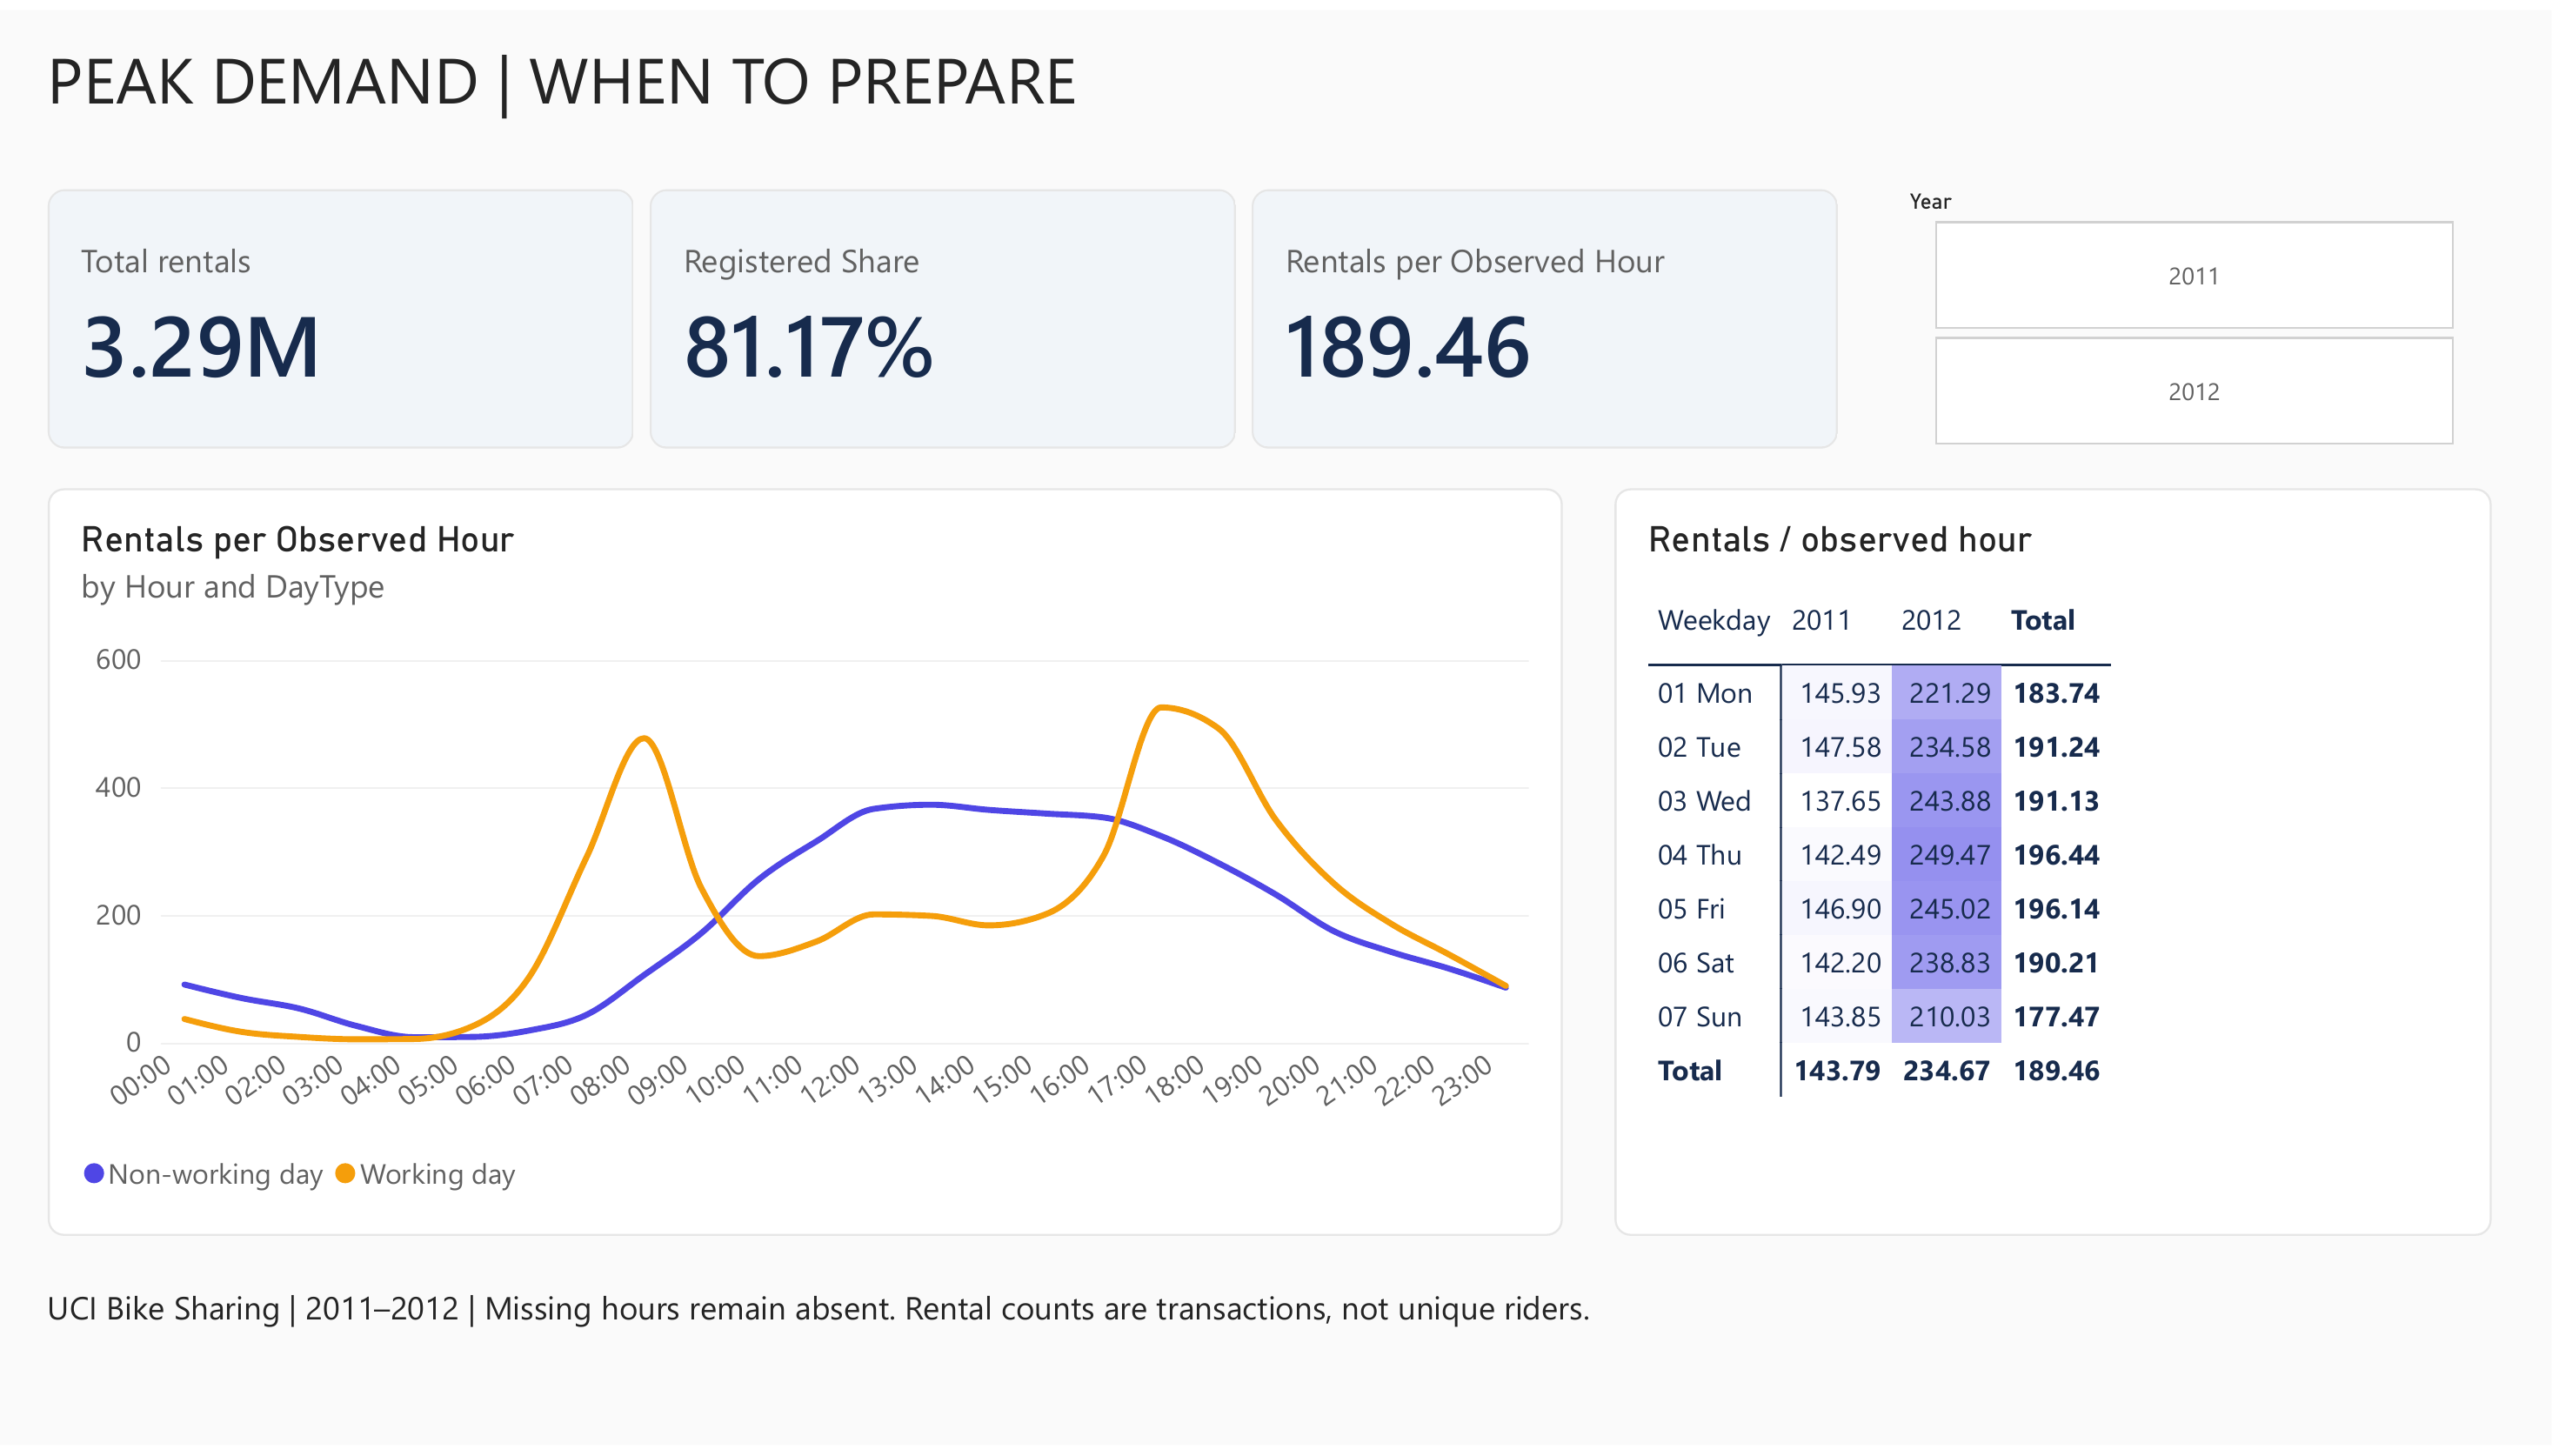

This screenshot's page, from the dashboard's own definition file:
{"tool":"powerbi","page":{"name":"02 Peak-hour Operations","canvas":[1280,720],"ordinal":1},"visuals":[{"type":"textbox","box":[24,12,1230,72],"z":0},{"type":"cardVisual","fields":{"Data":["Sum(rentals.TotalRentals)","rentals.Registered Share","rentals.Rentals per Observed Hour"]},"box":[24,90,900,130],"z":1000},{"type":"textbox","box":[24,640,1230,50],"z":2000},{"type":"slicer","fields":{"Values":["rentals.Year"]},"box":[950,90,300,130],"z":3000},{"type":"lineChart","fields":{"Category":["rentals.Hour"],"Series":["rentals.DayType"],"Y":["rentals.Rentals per Observed Hour"]},"box":[24,240,760,375],"z":3001},{"type":"pivotTable","title":"Rentals / observed hour","fields":{"Columns":["rentals.Year"],"Rows":["rentals.Weekday"],"Values":["rentals.Rentals per Observed Hour"]},"box":[810,240,440,375],"z":3002}]}

Visuals, with their boxes in screenshot pixels (x1, y1, x2, y2), scaled from the page's 1280x720 canvas onto the 2552x1456 screenshot:
textbox: <box>48,24,2500,170</box>
cardVisual - Sum(rentals.TotalRentals) x rentals.Registered Share: <box>48,182,1842,445</box>
textbox: <box>48,1294,2500,1395</box>
slicer - rentals.Year: <box>1894,182,2492,445</box>
lineChart - rentals.Hour x rentals.DayType: <box>48,485,1563,1244</box>
"Rentals / observed hour" pivotTable: <box>1615,485,2492,1244</box>
